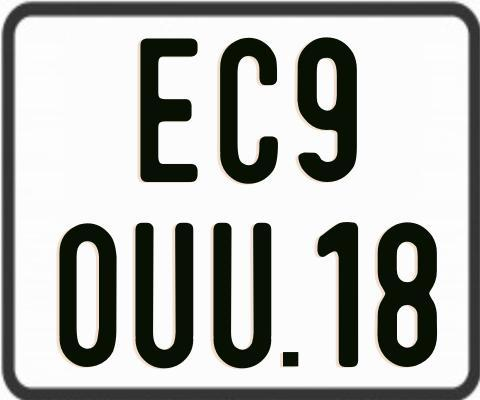0: (57, 223, 116, 370)
1: (315, 220, 359, 367)
8: (374, 220, 437, 367)
9: (294, 35, 356, 185)
C: (218, 38, 276, 187)
E: (139, 38, 200, 182)
U: (133, 221, 197, 367), (213, 222, 274, 372)
